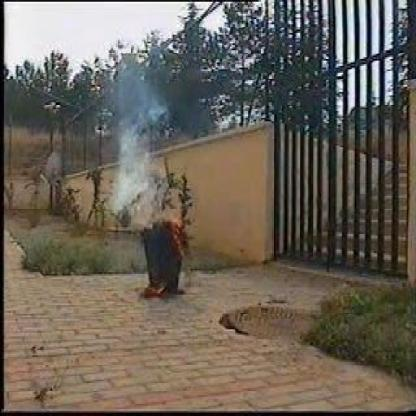-: (110, 68, 158, 206)
